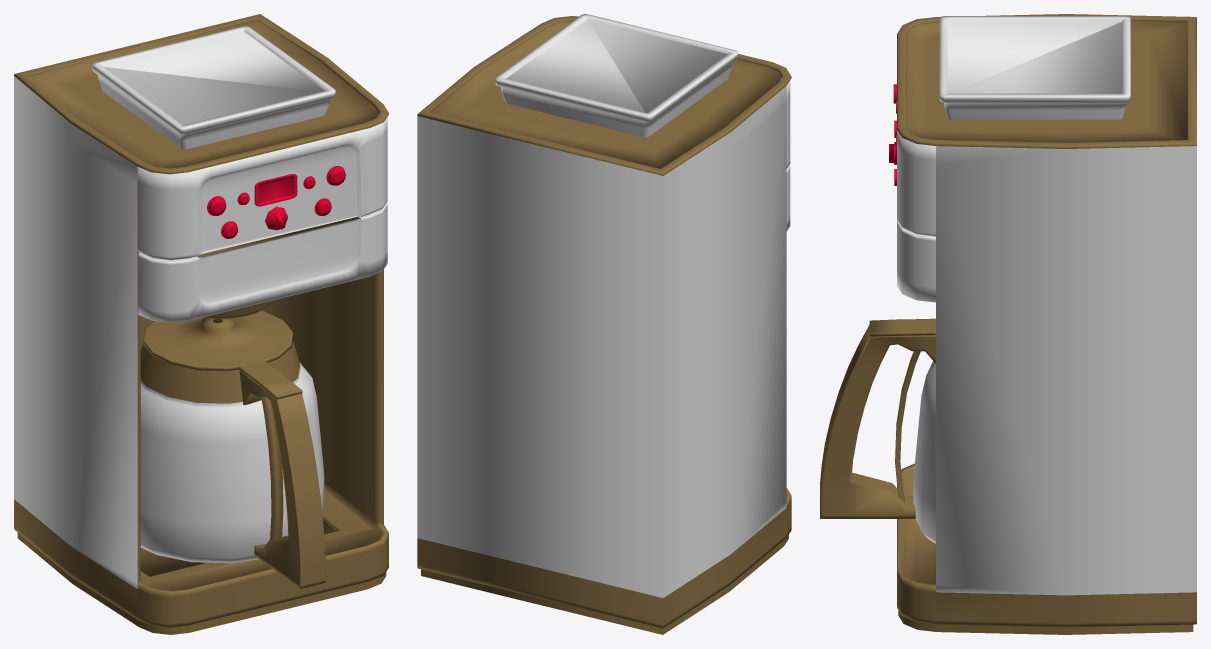
Rendered from coffeeMachine.fbx.
3 renders of one model, left to right at view 1: azimuth 30°, elevation 25°; view 2: azimuth 150°, elevation 25°; view 3: azimuth 270°, elevation 25°, orthographic. The views are drawn at different scales.
Parts seen in each view (by area): view 1: Cube; view 2: Cube; view 3: Cube.
Boxes of the visible parts, x1,y1,x2,y2 form: Cube: (14,14,388,634); Cube: (417,14,791,634); Cube: (820,14,1196,634).
Size of the model in its own units: 40.41 by 72.81 by 48.45.
